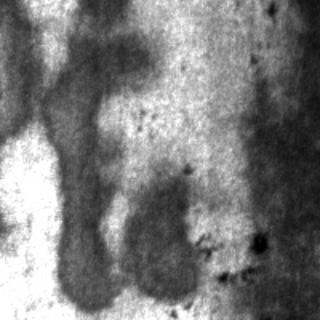patches: (42, 0, 138, 312), (238, 0, 318, 318), (123, 163, 201, 299), (1, 0, 42, 144)
